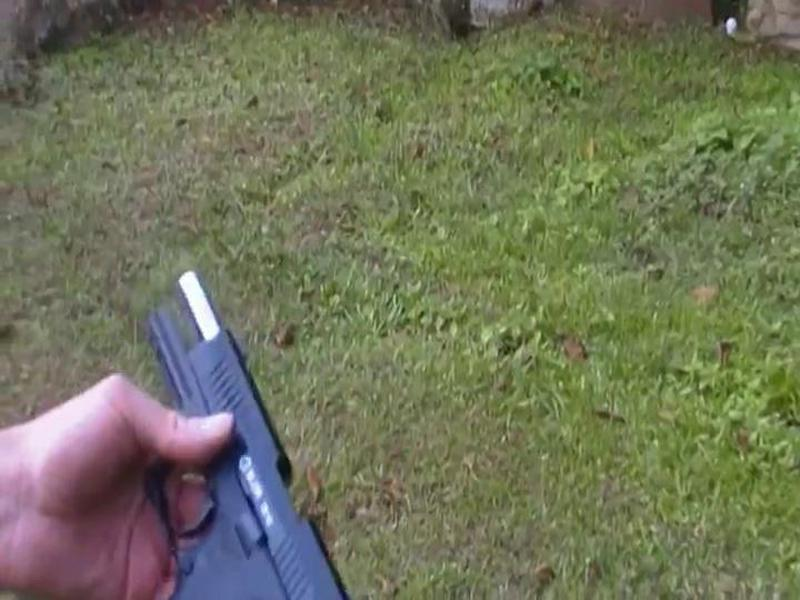Pistola: (112, 284, 400, 600)
